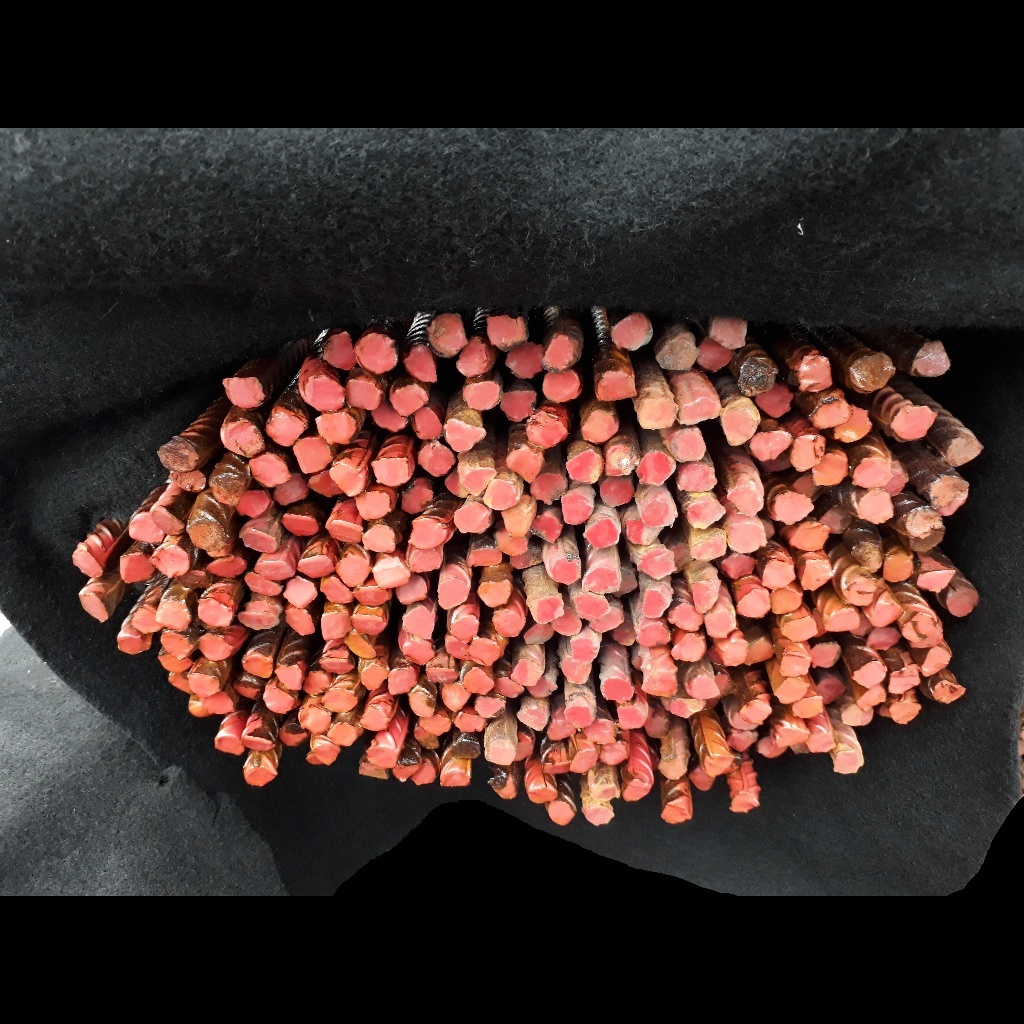dipstick: (723, 398, 759, 444), (356, 333, 397, 373), (851, 353, 893, 390), (430, 315, 466, 356), (221, 421, 263, 456), (892, 406, 932, 441), (418, 440, 454, 477), (528, 413, 565, 449), (293, 439, 332, 473), (305, 378, 344, 412), (612, 314, 649, 349), (739, 360, 776, 395), (798, 356, 833, 393), (266, 412, 305, 445), (446, 420, 486, 452), (223, 377, 264, 408), (857, 490, 893, 525), (638, 451, 675, 485), (249, 456, 289, 487), (835, 408, 871, 442), (658, 339, 696, 371), (323, 331, 354, 370), (597, 372, 637, 402), (773, 494, 813, 524), (670, 427, 705, 461), (915, 341, 949, 376), (486, 316, 528, 344), (750, 433, 793, 460), (507, 343, 542, 376), (931, 474, 967, 506), (729, 523, 767, 553), (159, 443, 198, 472), (687, 499, 726, 528), (851, 459, 890, 488), (583, 411, 618, 443), (814, 451, 846, 486), (410, 517, 446, 548), (696, 339, 732, 370), (318, 412, 355, 442), (711, 318, 748, 348), (789, 524, 830, 551), (639, 399, 677, 428), (543, 336, 575, 370), (506, 449, 541, 480), (501, 391, 536, 422), (344, 379, 380, 409), (543, 372, 579, 402), (680, 398, 720, 425), (692, 531, 729, 560), (458, 338, 486, 376), (337, 555, 370, 587), (566, 450, 599, 482), (792, 436, 824, 469), (454, 504, 488, 535), (600, 476, 634, 507), (758, 387, 792, 418), (812, 399, 851, 426), (406, 347, 436, 382), (736, 588, 771, 618), (153, 547, 189, 576), (463, 382, 499, 411), (728, 487, 763, 516), (678, 466, 717, 492), (372, 457, 408, 485), (244, 756, 277, 786), (187, 523, 225, 549), (374, 560, 409, 588), (240, 574, 282, 597), (801, 559, 832, 590), (275, 474, 305, 506), (284, 578, 316, 608), (402, 609, 434, 639), (120, 553, 153, 582), (438, 578, 467, 611), (907, 507, 941, 535), (626, 520, 664, 545), (638, 552, 673, 579), (531, 474, 567, 500), (211, 476, 242, 506), (396, 575, 427, 605), (414, 408, 443, 440), (485, 481, 517, 510), (605, 446, 637, 475), (198, 599, 231, 627), (762, 561, 795, 589), (852, 661, 886, 688), (372, 407, 408, 432), (583, 568, 619, 593), (821, 505, 851, 535), (852, 542, 882, 572), (332, 464, 363, 493), (80, 592, 109, 623), (394, 386, 425, 415), (72, 550, 104, 578), (158, 600, 190, 628), (357, 491, 389, 519), (672, 634, 704, 662), (771, 587, 803, 615), (363, 525, 396, 552), (319, 577, 353, 603), (159, 632, 194, 657), (947, 440, 982, 465), (921, 648, 950, 678), (464, 467, 495, 495), (587, 520, 618, 548), (883, 554, 914, 582), (283, 513, 319, 537), (400, 486, 432, 513), (781, 616, 817, 640), (888, 667, 920, 694), (199, 635, 232, 661), (776, 677, 809, 703), (694, 579, 720, 612), (324, 519, 361, 542), (721, 555, 758, 578), (669, 604, 703, 629), (207, 556, 247, 577), (387, 668, 417, 696), (285, 609, 315, 637), (531, 515, 561, 543), (345, 633, 376, 660), (705, 611, 736, 638), (478, 581, 510, 607), (408, 548, 441, 573), (530, 597, 563, 622), (241, 529, 275, 553), (575, 594, 609, 618), (297, 555, 334, 577), (321, 610, 350, 638), (494, 610, 523, 638), (562, 494, 590, 523), (408, 686, 435, 716), (470, 638, 500, 665), (948, 589, 978, 616), (846, 579, 876, 606), (130, 515, 161, 541), (152, 508, 183, 534), (910, 528, 945, 551), (310, 472, 342, 497), (643, 501, 675, 526), (274, 663, 301, 692), (322, 689, 356, 712), (255, 560, 294, 580), (403, 639, 434, 664), (485, 740, 516, 765), (871, 603, 902, 628), (591, 608, 623, 632), (902, 617, 934, 641), (917, 571, 955, 591), (638, 623, 671, 646), (360, 664, 387, 692), (747, 637, 774, 665), (232, 674, 261, 700), (238, 492, 268, 517), (264, 688, 294, 713), (811, 643, 841, 668), (934, 680, 965, 704), (642, 675, 677, 696), (450, 615, 478, 641), (552, 558, 580, 584), (781, 653, 810, 678), (643, 589, 668, 618), (169, 471, 205, 491), (359, 706, 389, 730), (621, 778, 651, 802), (242, 728, 273, 751), (243, 654, 274, 677), (329, 723, 360, 746), (603, 679, 634, 702), (443, 684, 469, 711), (570, 748, 597, 774), (354, 587, 389, 607), (556, 607, 581, 635), (818, 679, 846, 704), (239, 612, 280, 629), (189, 673, 219, 696), (661, 802, 692, 824), (868, 628, 899, 650), (134, 604, 158, 632), (302, 708, 330, 732), (512, 661, 540, 685), (889, 702, 921, 723), (466, 670, 495, 693), (320, 655, 355, 674), (204, 691, 234, 713), (792, 696, 822, 718), (841, 705, 874, 725), (352, 614, 386, 633), (835, 751, 863, 774), (495, 535, 527, 555), (688, 678, 720, 698), (518, 709, 548, 730), (670, 699, 705, 717), (573, 638, 598, 663), (563, 660, 590, 683), (587, 720, 614, 743), (503, 511, 530, 534), (117, 632, 148, 652), (729, 792, 760, 812), (279, 724, 307, 746), (743, 701, 771, 723), (466, 548, 500, 566), (825, 612, 859, 630), (658, 759, 687, 780), (304, 671, 329, 695), (548, 802, 574, 825), (618, 707, 645, 729), (529, 782, 557, 803), (477, 697, 506, 717), (524, 624, 553, 644), (415, 727, 439, 751), (723, 641, 747, 665), (943, 493, 968, 516), (529, 678, 559, 697), (600, 743, 627, 764), (859, 689, 886, 710), (369, 747, 397, 767), (496, 678, 524, 698), (911, 630, 942, 648), (690, 768, 713, 792), (567, 705, 592, 727), (179, 571, 211, 588), (159, 655, 191, 672), (455, 713, 483, 732), (548, 720, 576, 739), (586, 806, 614, 825), (729, 732, 757, 751), (808, 733, 836, 752), (425, 667, 458, 683), (705, 754, 730, 775), (444, 637, 467, 659), (422, 716, 450, 734), (544, 754, 568, 775), (591, 784, 619, 802), (646, 717, 670, 738), (314, 743, 339, 763), (795, 477, 821, 496), (215, 736, 242, 754), (360, 762, 387, 780), (453, 741, 480, 759), (414, 762, 435, 785), (777, 727, 807, 743), (620, 567, 637, 595), (760, 738, 786, 756), (890, 471, 908, 497), (510, 554, 541, 569), (494, 777, 516, 798), (614, 624, 636, 645), (394, 762, 418, 781), (440, 771, 469, 786), (446, 473, 463, 497), (517, 734, 532, 761), (169, 675, 190, 694), (189, 698, 206, 717), (735, 716, 758, 730), (791, 743, 809, 755)
